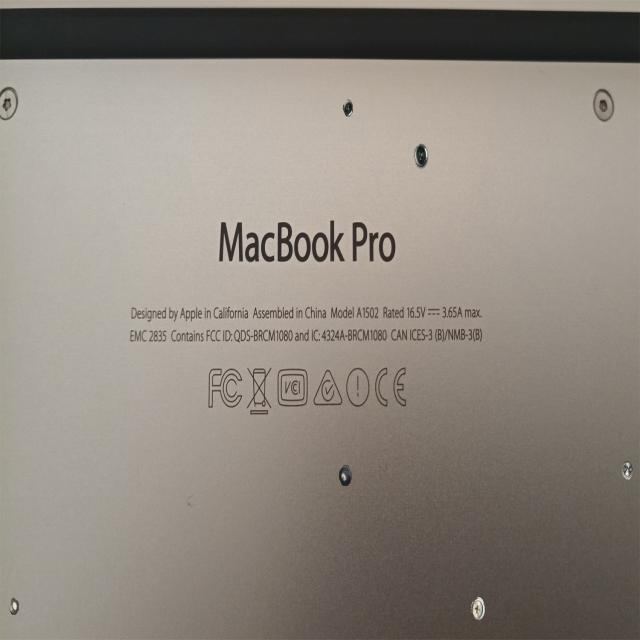lock: (413, 143, 428, 168), (471, 597, 485, 620), (622, 461, 633, 479), (343, 99, 353, 116)
missing_screw: (339, 464, 352, 486), (9, 597, 19, 615)
